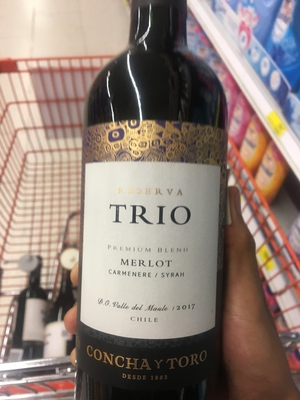trio merlot: (76, 32, 230, 386)
